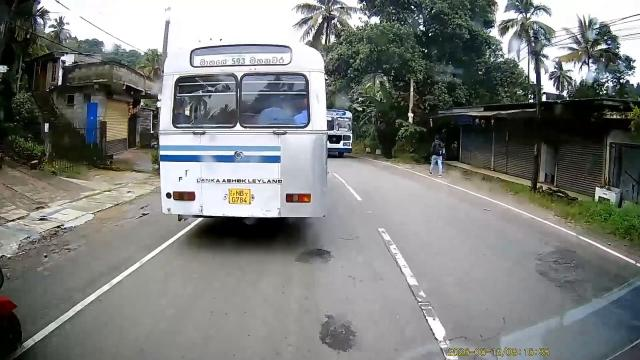number plate: (224, 186, 255, 207)
